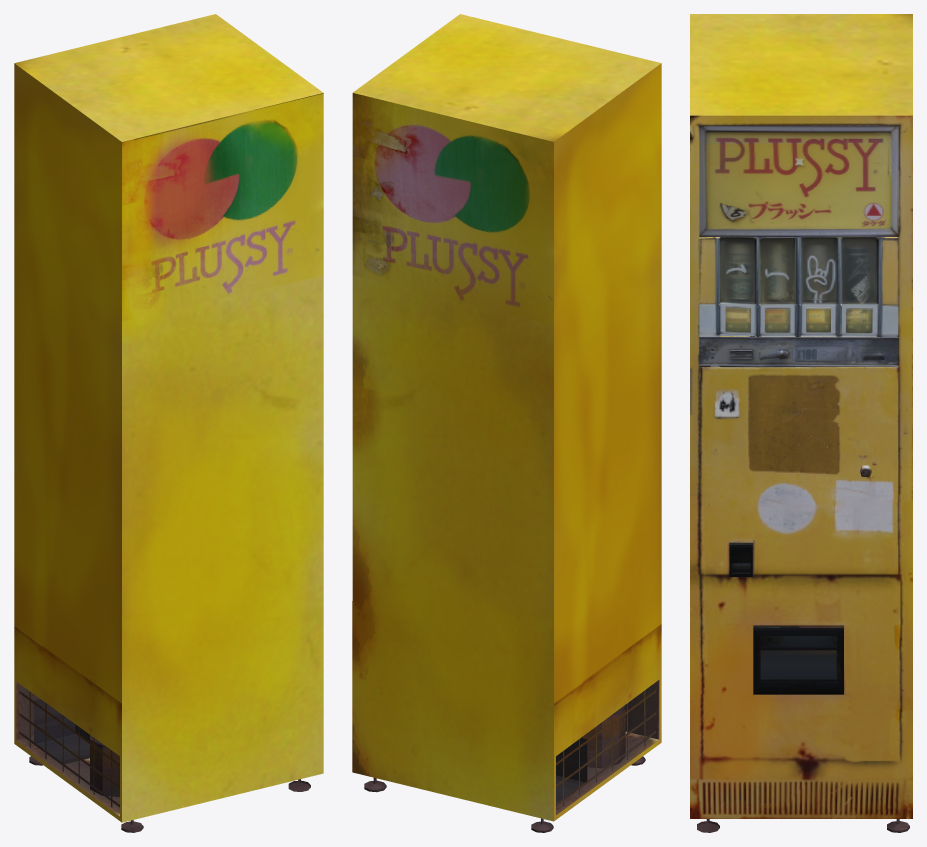
The model's file is plussy_vending_machine.glb.
3 views of the same model, side by side, from view 1: azimuth 30°, elevation 25°; view 2: azimuth 150°, elevation 25°; view 3: azimuth 270°, elevation 25° (orthographic). The views are drawn at different scales.
Parts seen in each view (by area): view 1: Plussy_1; view 2: Plussy_1; view 3: Plussy_1.
Part boxes in pixels (left/top/right/bottom): Plussy_1: left=14, top=14, right=323, bottom=832; Plussy_1: left=352, top=14, right=661, bottom=832; Plussy_1: left=690, top=14, right=912, bottom=832.
Size of the model in its own units: 0.5651 by 1.78 by 0.4994.
2 materials, 2 textured.
